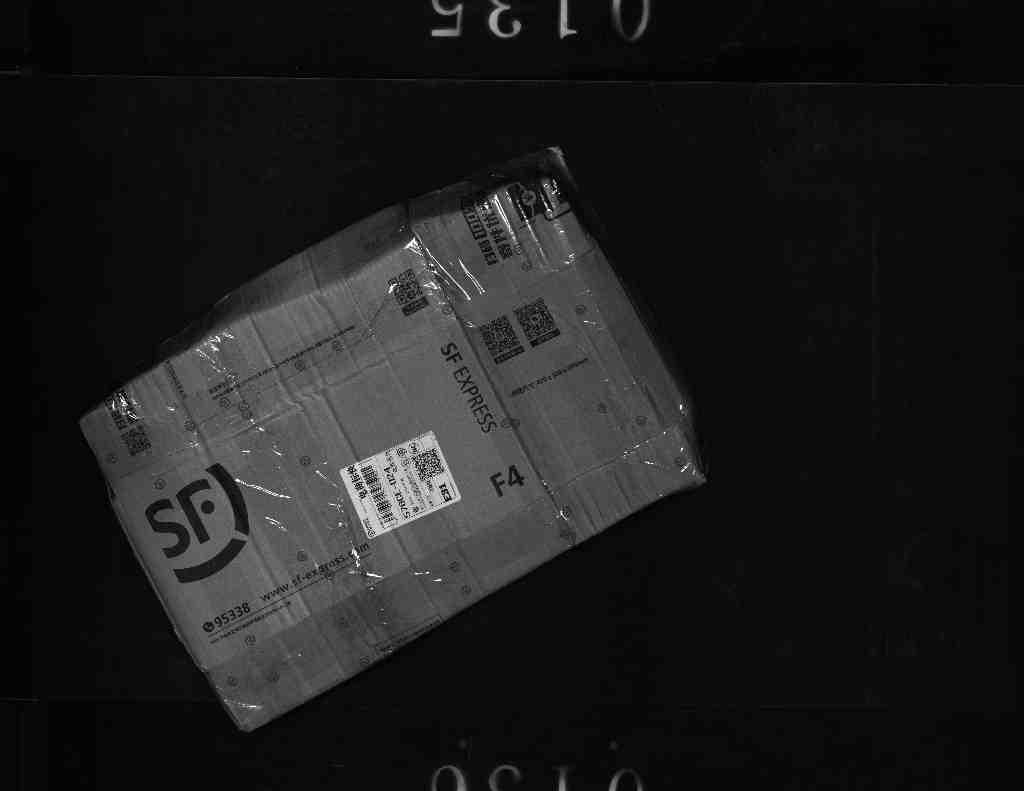box: (101, 154, 725, 740)
